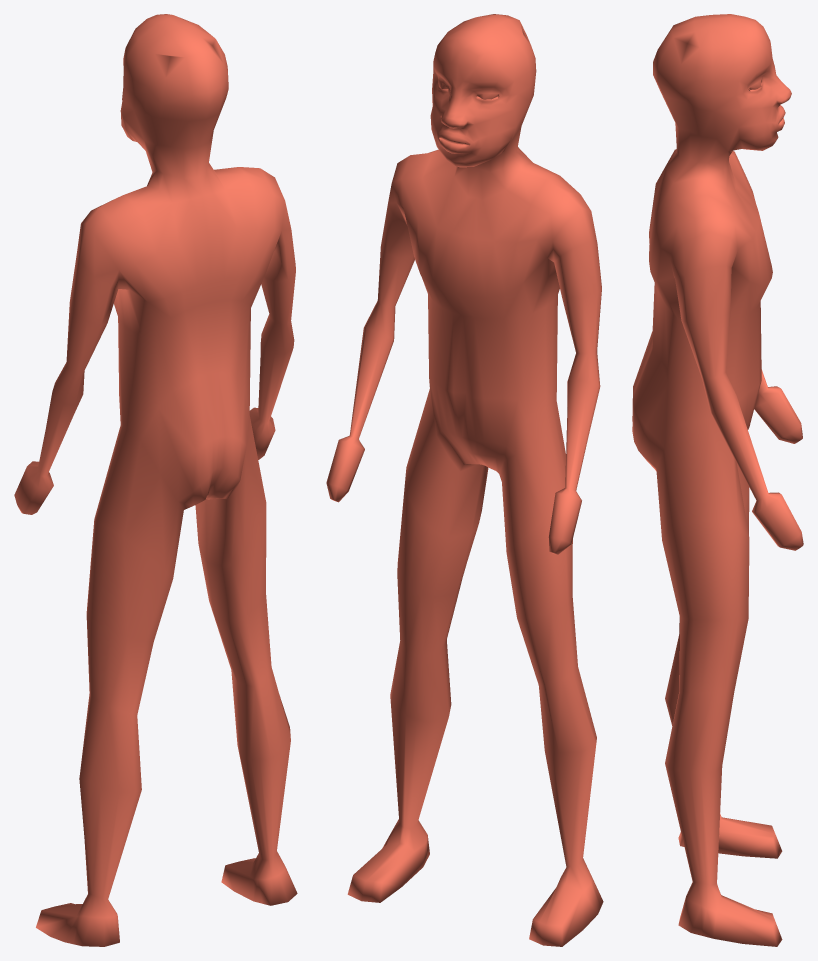
The model's file is Kind.obj.
3 renders of one model, left to right at view 1: azimuth 30°, elevation 25°; view 2: azimuth 150°, elevation 25°; view 3: azimuth 270°, elevation 25°, orthographic. The views are drawn at different scales.
Visible parts, largest first — view 1: Kind; view 2: Kind; view 3: Kind.
Part boxes in pixels (<box>): Kind: <box>14,14,297,946</box>; Kind: <box>326,14,603,946</box>; Kind: <box>632,14,803,946</box>.
Bounding box in the file's own units: 2.72 × 9.54 × 1.69.
